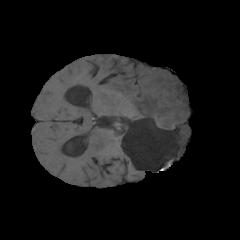glioma: (104, 69, 187, 154)
